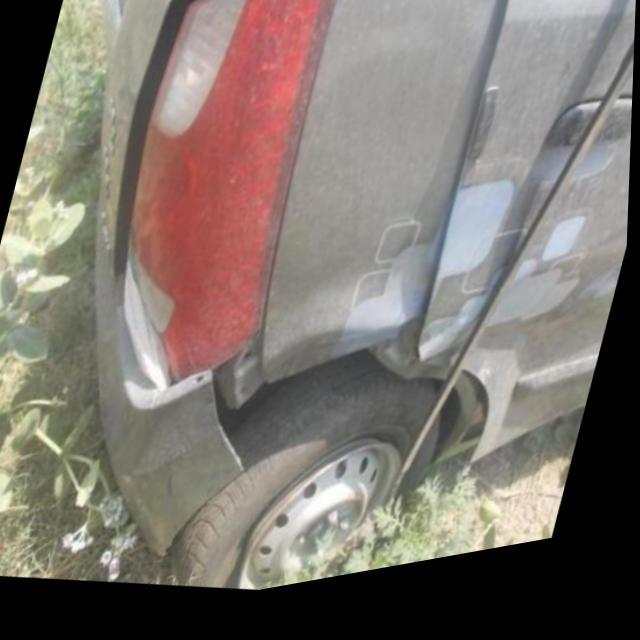dent: (425, 268, 628, 489)
no part: (210, 323, 506, 486)
